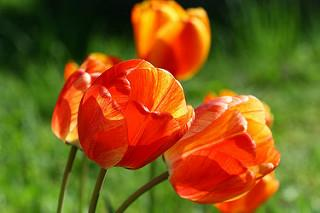tulip: (77, 58, 195, 171)
